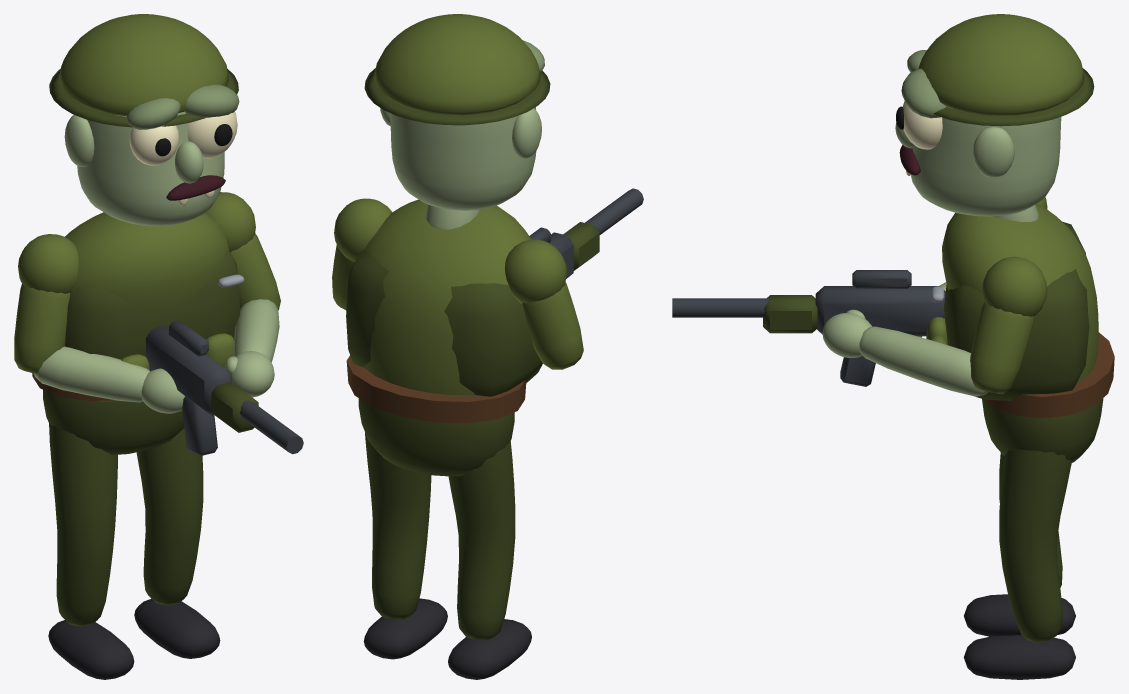
File: foot_soldier.glb
The picture shows the model from 3 angles, left to right: view 1: azimuth 30°, elevation 25°; view 2: azimuth 150°, elevation 25°; view 3: azimuth 270°, elevation 25°; orthographic projection. The views are drawn at different scales.
Visible parts, largest first — view 1: Head, LegR, Helmet, LegL, ArmR, Torso, Vest, Weapon, ArmL, Hips, Belt; view 2: Torso, Helmet, LegR, Head, LegL, Vest, Hips, ArmR, Belt, ArmL, Weapon; view 3: Head, LegL, Helmet, ArmL, Weapon, Vest, Torso, Hips, Belt, LegR.
Boxes of the visible parts, x1=… form: Head: x1=64, y1=84, x2=239, y2=226; LegR: x1=48, y1=422, x2=134, y2=679; Helmet: x1=49, y1=14, x2=238, y2=127; LegL: x1=134, y1=428, x2=220, y2=658; ArmR: x1=14, y1=234, x2=185, y2=413; Torso: x1=65, y1=212, x2=229, y2=401; Vest: x1=65, y1=250, x2=244, y2=370; Weapon: x1=146, y1=320, x2=303, y2=455; ArmL: x1=205, y1=192, x2=280, y2=397; Hips: x1=43, y1=390, x2=184, y2=454; Belt: x1=32, y1=373, x2=114, y2=400; Torso: x1=364, y1=199, x2=531, y2=395; Helmet: x1=364, y1=14, x2=550, y2=125; LegR: x1=448, y1=441, x2=531, y2=679; Head: x1=380, y1=40, x2=544, y2=210; LegL: x1=363, y1=432, x2=447, y2=659; Vest: x1=346, y1=250, x2=542, y2=396; Hips: x1=358, y1=398, x2=514, y2=476; ArmR: x1=505, y1=239, x2=583, y2=369; Belt: x1=346, y1=355, x2=526, y2=423; ArmL: x1=332, y1=198, x2=392, y2=310; Weapon: x1=529, y1=188, x2=643, y2=278; Head: x1=895, y1=50, x2=1061, y2=216; LegL: x1=963, y1=449, x2=1075, y2=679; Helmet: x1=918, y1=14, x2=1094, y2=126; ArmL: x1=822, y1=256, x2=1047, y2=396; Weapon: x1=672, y1=270, x2=945, y2=386; Vest: x1=926, y1=221, x2=1089, y2=400; Torso: x1=942, y1=203, x2=1098, y2=383; Hips: x1=982, y1=398, x2=1103, y2=462; Belt: x1=984, y1=332, x2=1114, y2=418; LegR: x1=964, y1=452, x2=1075, y2=636.
Bounding box in the file's own units: 0.8332 × 2 × 1.27.
